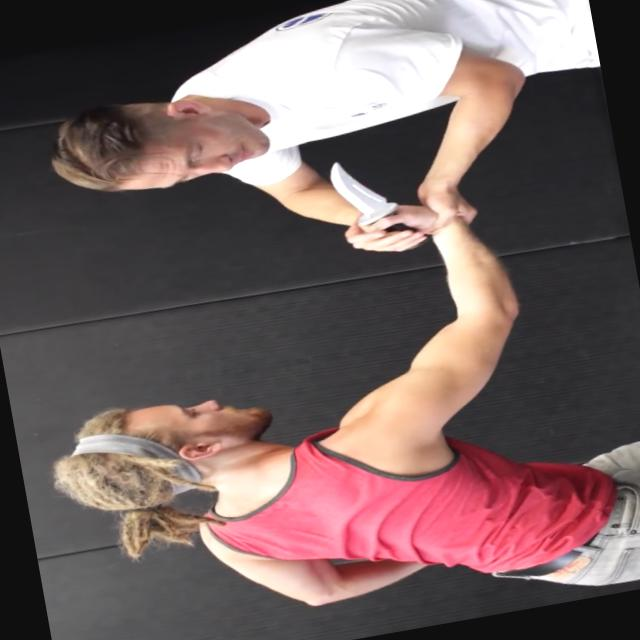knife: (314, 141, 429, 259)
